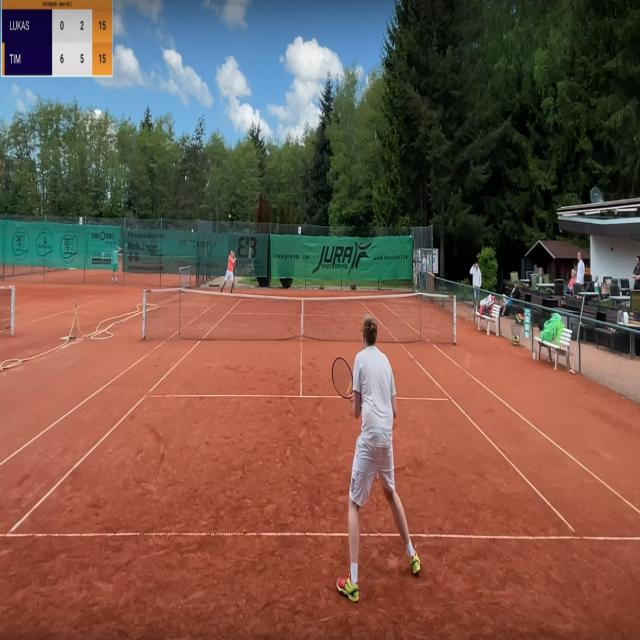ball: (228, 213, 232, 220)
